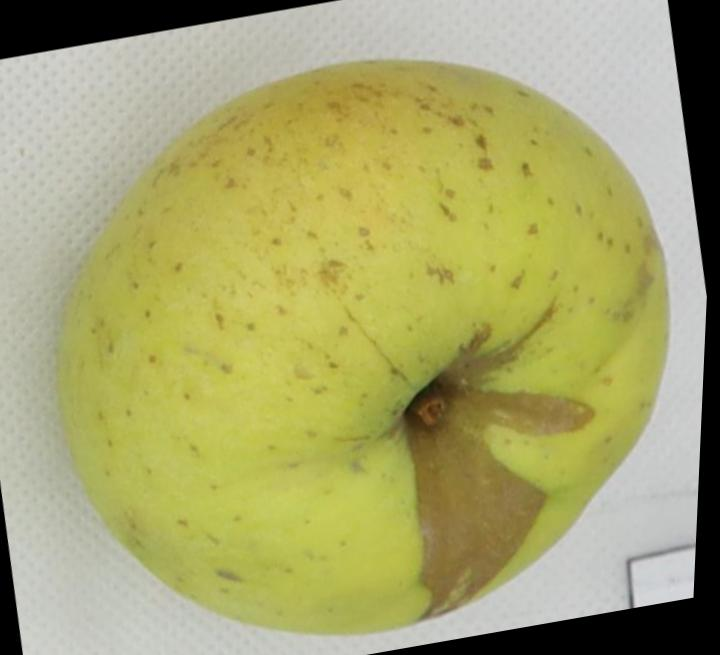apple: (60, 60, 669, 633)
bruise_discoloration: (406, 303, 595, 616)
